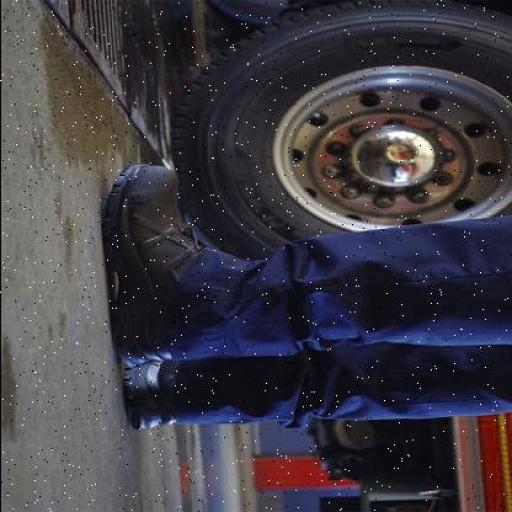safety_shoe: (92, 164, 201, 369)
